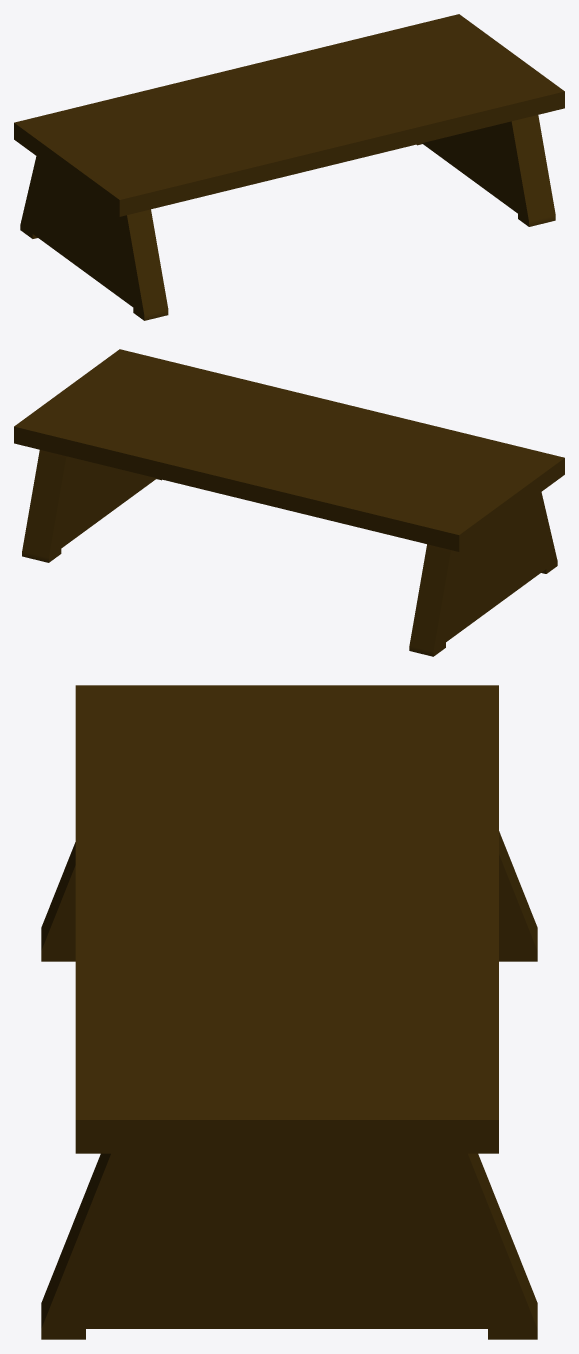
Rendered from KingsTable_test.fbx.
The picture shows the model from 3 angles, top to bottom: view 1: azimuth 30°, elevation 25°; view 2: azimuth 150°, elevation 25°; view 3: azimuth 270°, elevation 25°; orthographic projection. The views are drawn at different scales.
Visible parts, largest first — view 1: pCube1; view 2: pCube1; view 3: pCube1.
Part boxes in pixels (x1,y1,x2,y2): pCube1: (14,14,564,320); pCube1: (14,349,564,656); pCube1: (41,685,537,1339).
Bounding box in the file's own units: 392 × 99.57 × 189.
